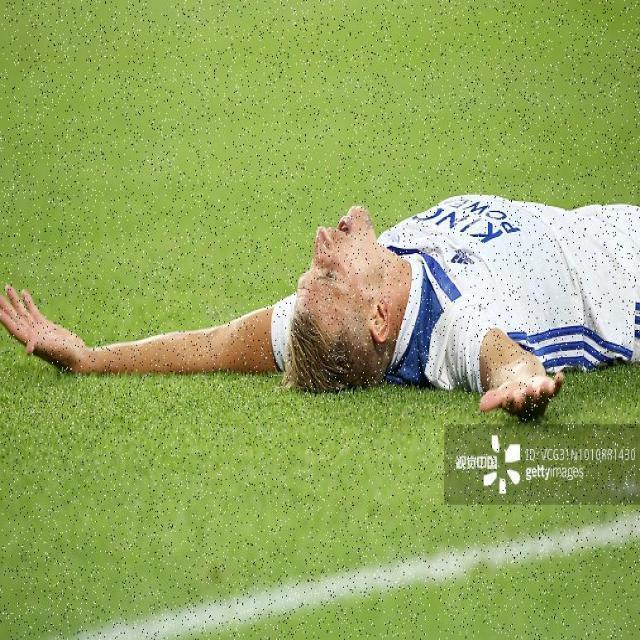fall: (18, 192, 640, 402)
